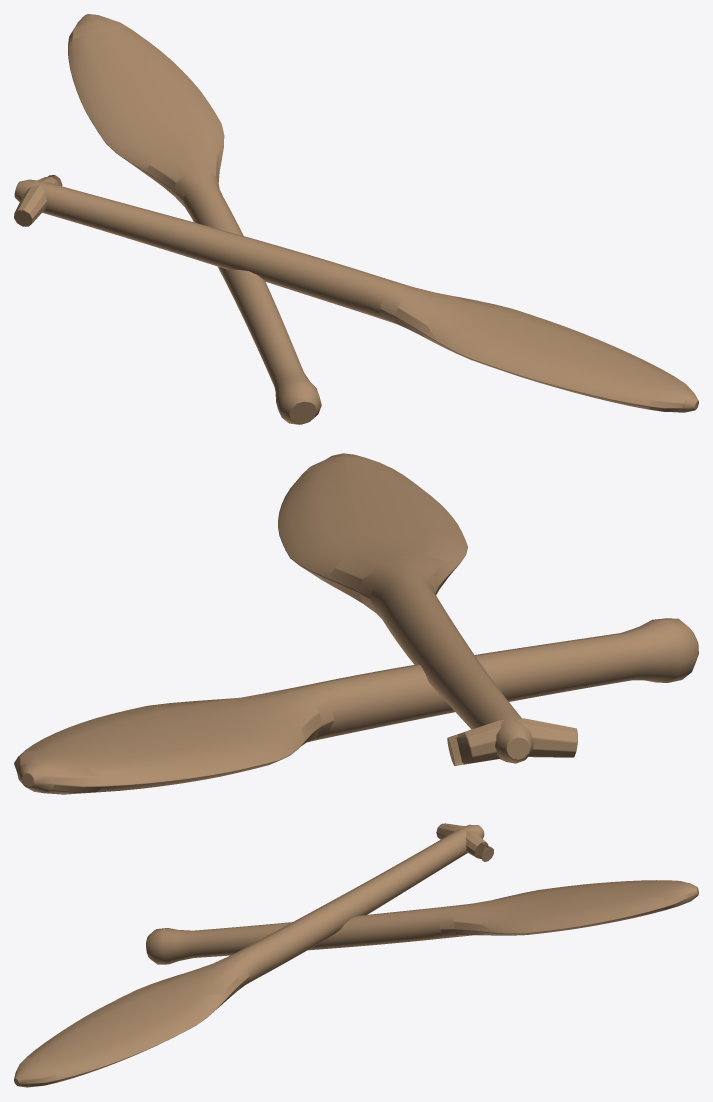
Rendered from prop_oar_pair_3.glb.
3 renders of one model, top to bottom at view 1: azimuth 30°, elevation 25°; view 2: azimuth 150°, elevation 25°; view 3: azimuth 270°, elevation 25°, orthographic. The views are drawn at different scales.
Visible parts, largest first — view 1: oar_pair_3; view 2: oar_pair_3; view 3: oar_pair_3.
Boxes of the visible parts, bbox=[...] form: oar_pair_3: bbox=[14, 14, 698, 424]; oar_pair_3: bbox=[14, 453, 698, 794]; oar_pair_3: bbox=[14, 823, 698, 1087].
Size of the model in its own units: 1.04 by 0.3451 by 1.74.
